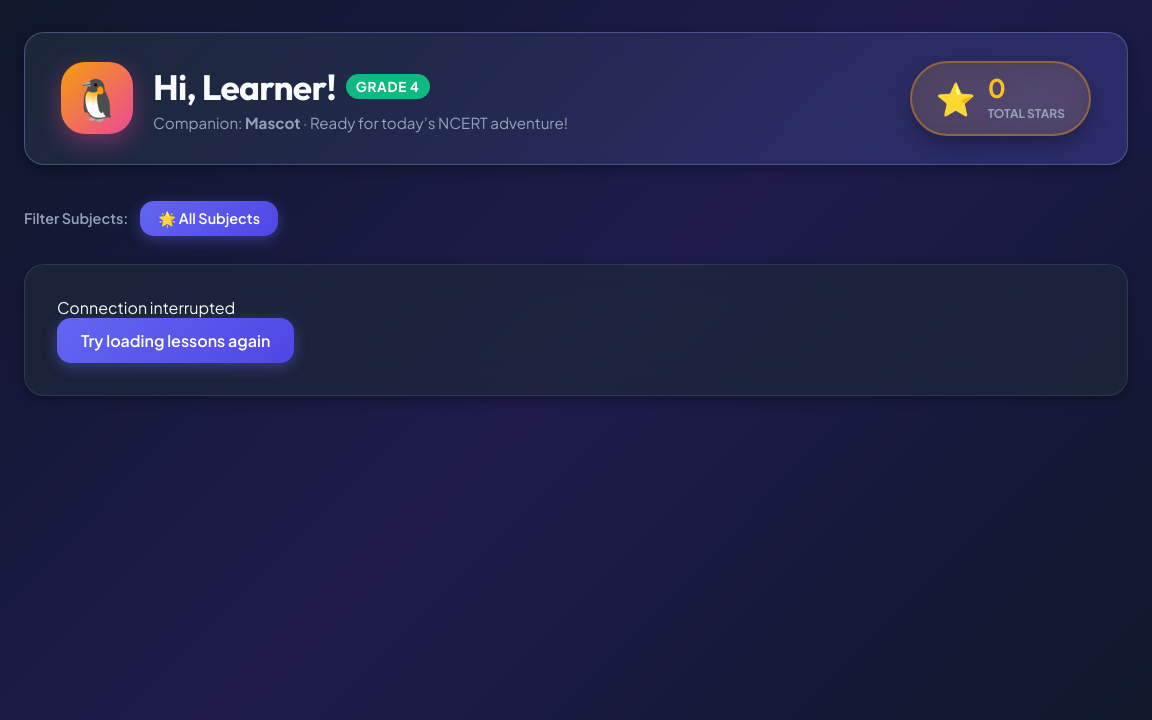
Scenario: shows a loading error instead of an empty library and recovers on retry
Expected: the message shows "Connection interrupted", [57, 297, 235, 318]
Click the button "Try loading lessons again". click: (176, 340)
box: [57, 318, 294, 363]
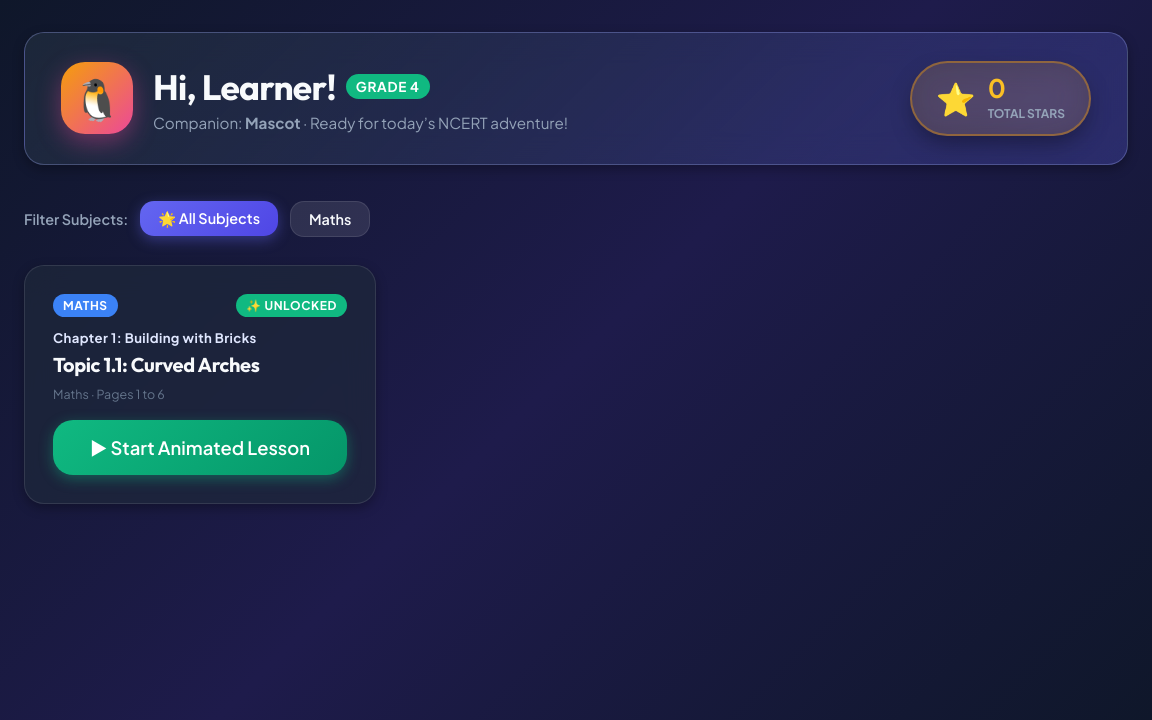
Result: the heading "Topic 1.1: Curved Arches" is shown at [53, 352, 260, 377]
